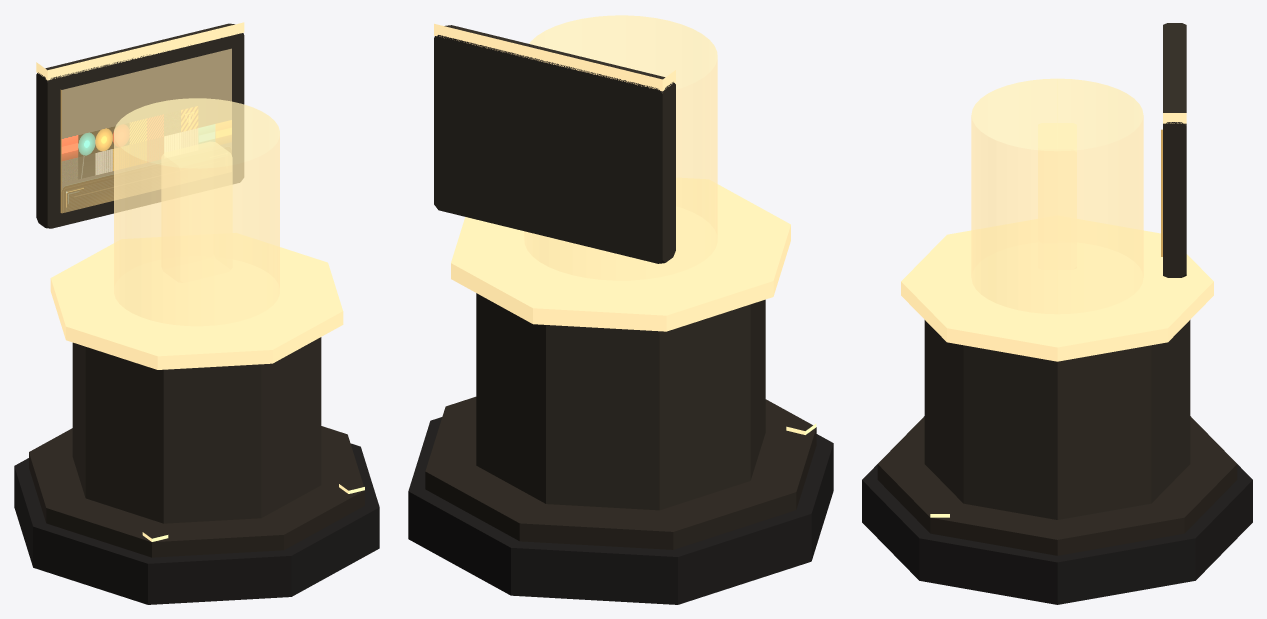
Rendered from room_l610_hero_memory_projection_pedestal.glb.
3 views of the same model, side by side, from view 1: azimuth 30°, elevation 25°; view 2: azimuth 150°, elevation 25°; view 3: azimuth 270°, elevation 25° (orthographic). The views are drawn at different scales.
Parts seen in each view (by area): view 1: mp_column, mp_holo, mp_halo, mp_base, mp_screen, mp_base_ring, mp_screen_panel, mp_holo_core, mp_screen_crest; view 2: mp_column, mp_screen_panel, mp_halo, mp_base, mp_base_ring, mp_holo, mp_screen_crest; view 3: mp_column, mp_holo, mp_halo, mp_base, mp_base_ring, mp_screen_panel, mp_holo_core.
Part boxes in pixels (x1,y1,x2,y2): mp_column: [72, 337, 321, 523]; mp_holo: [114, 98, 279, 326]; mp_halo: [50, 233, 343, 369]; mp_base: [14, 443, 379, 604]; mp_screen: [60, 48, 231, 213]; mp_base_ring: [29, 426, 364, 557]; mp_screen_panel: [36, 23, 244, 228]; mp_holo_core: [161, 141, 232, 282]; mp_screen_crest: [36, 22, 244, 80]; mp_column: [476, 293, 765, 510]; mp_screen_panel: [434, 25, 675, 263]; mp_halo: [451, 178, 790, 331]; mp_base: [408, 417, 833, 604]; mp_base_ring: [425, 396, 816, 549]; mp_holo: [524, 15, 717, 280]; mp_screen_crest: [434, 23, 675, 91]; mp_column: [924, 320, 1190, 519]; mp_holo: [971, 78, 1143, 314]; mp_halo: [901, 219, 1213, 361]; mp_base: [862, 450, 1252, 604]; mp_base_ring: [877, 416, 1237, 555]; mp_screen_panel: [1163, 23, 1186, 277]; mp_holo_core: [1038, 123, 1076, 269].
Bounding box in the file's own units: 1 × 1.29 × 1.
Materials: 7 (7 with a texture image).
